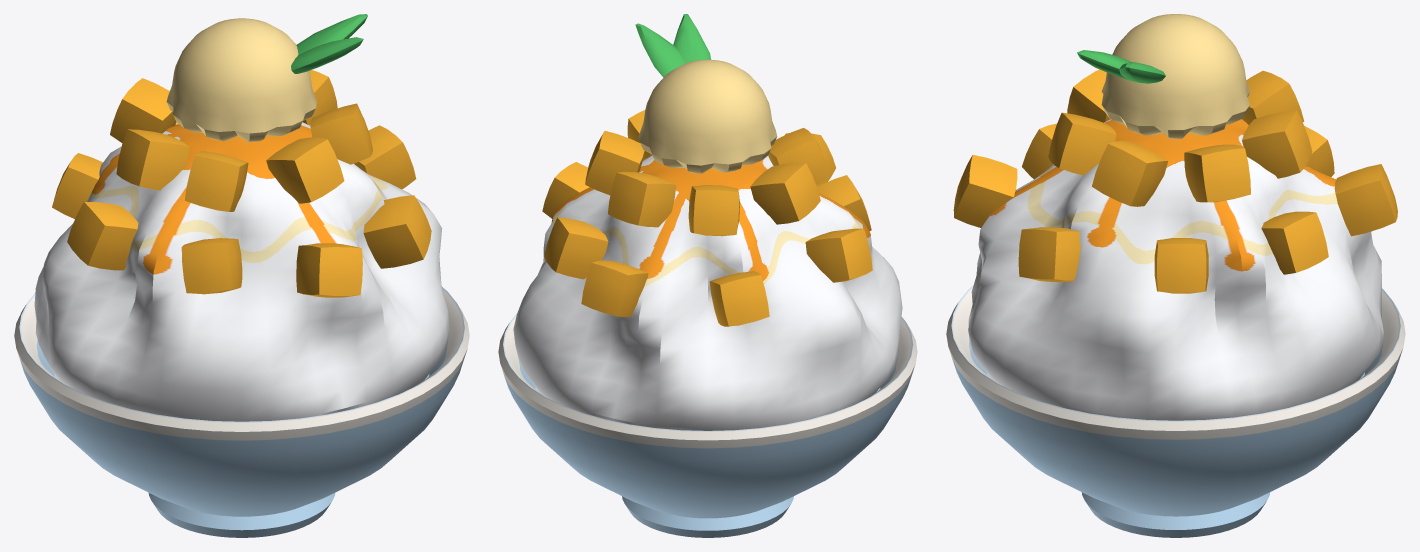
File: MangoBingsu.glb
3 renders of one model, left to right at view 1: azimuth 30°, elevation 25°; view 2: azimuth 150°, elevation 25°; view 3: azimuth 270°, elevation 25°, orthographic. The views are drawn at different scales.
Parts seen in each view (by area): view 1: MangoBingsu; view 2: MangoBingsu; view 3: MangoBingsu.
Part boxes in pixels (x1=…): MangoBingsu: x1=14, y1=14, x2=469, y2=537; MangoBingsu: x1=498, y1=14, x2=917, y2=537; MangoBingsu: x1=946, y1=14, x2=1405, y2=537.
Size of the model in its own units: 1.36 by 1.58 by 1.36.
Materials: 5 (5 with a texture image).
